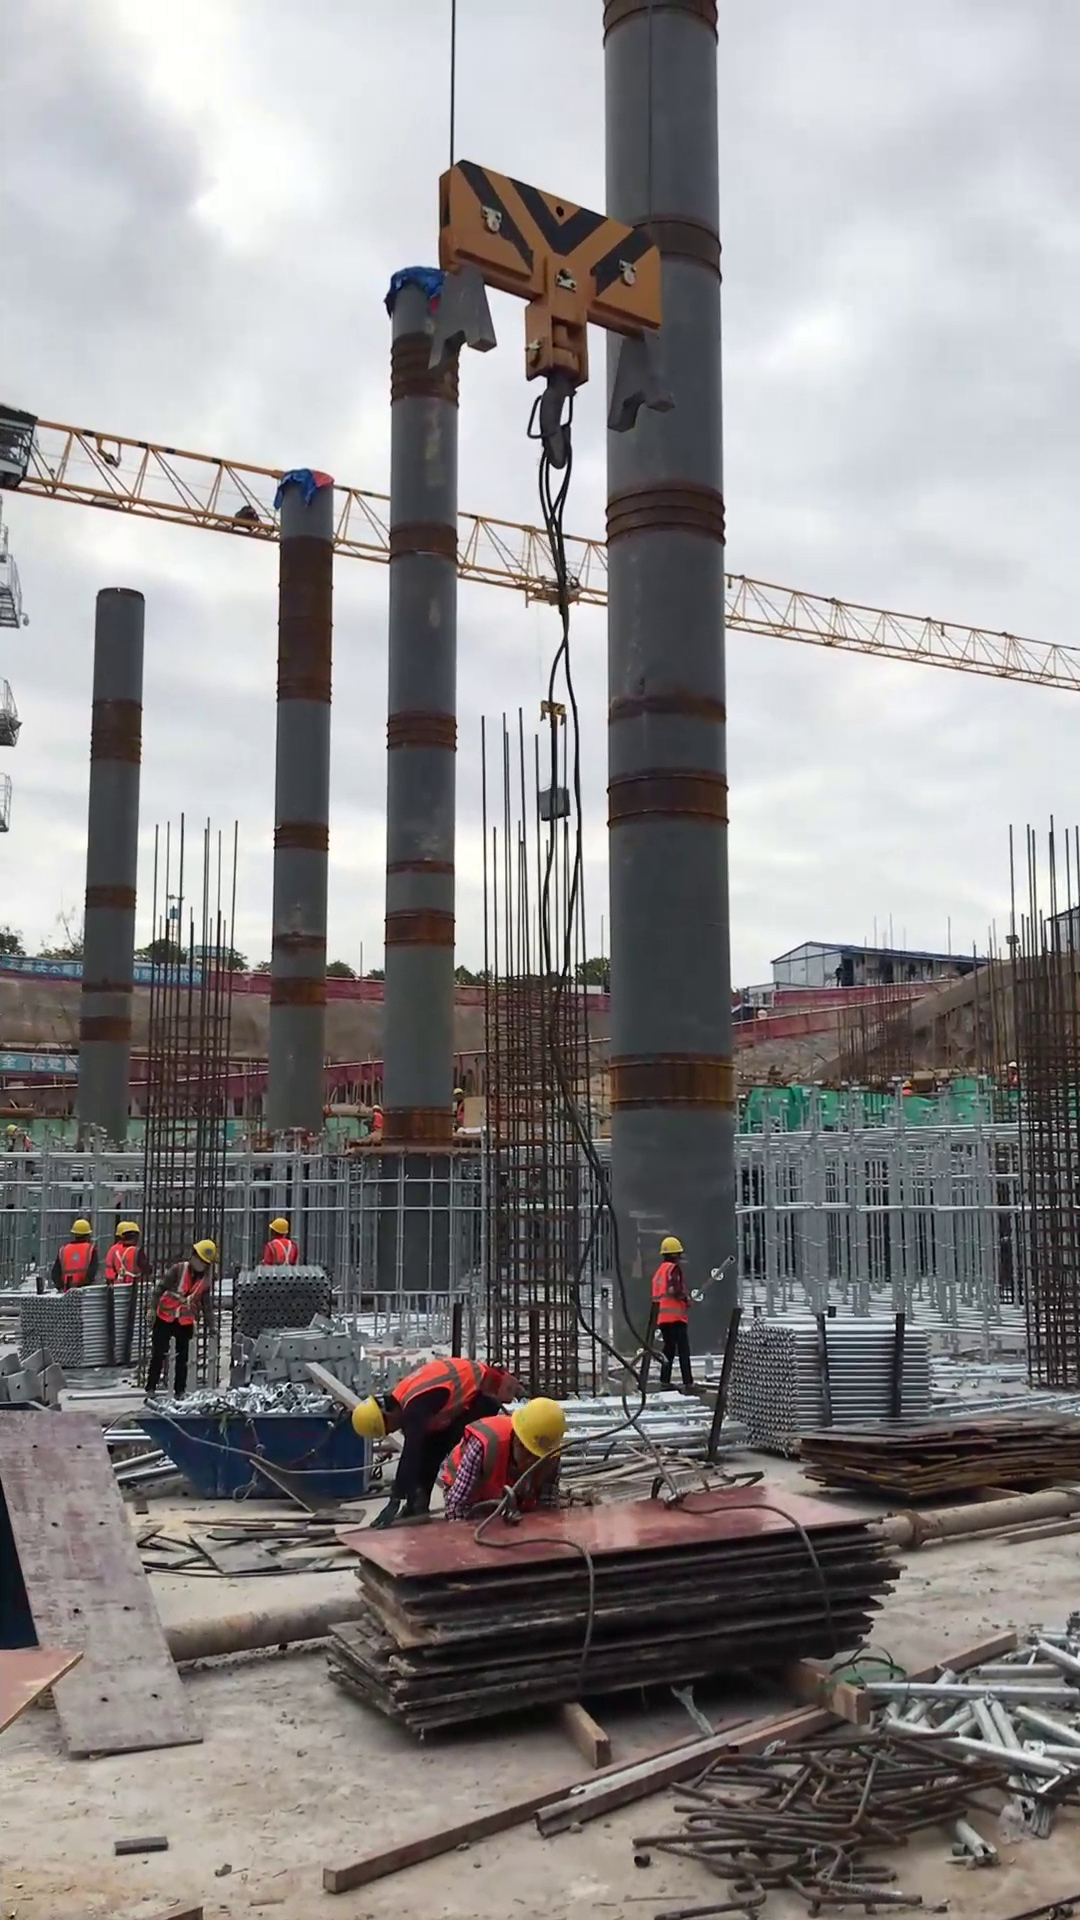board: (316, 1467, 923, 1758), (790, 1396, 1080, 1523)
helmet: (510, 1394, 571, 1467), (350, 1388, 394, 1453), (193, 1235, 222, 1269), (111, 1218, 143, 1243), (658, 1235, 687, 1258), (267, 1213, 293, 1235), (67, 1218, 93, 1238)
hook: (428, 151, 685, 479), (537, 698, 576, 739)
hopper: (149, 1406, 345, 1515)
person: (347, 1349, 528, 1531), (436, 1390, 578, 1540), (135, 1231, 230, 1411), (642, 1232, 711, 1394), (39, 1215, 108, 1296), (105, 1214, 153, 1289), (253, 1213, 303, 1276)
scaffold: (724, 1310, 940, 1451), (7, 1276, 153, 1376), (233, 1258, 340, 1353)
slogan: (1, 955, 89, 978), (1, 1051, 82, 1075)
vest: (440, 1410, 517, 1522), (392, 1354, 514, 1422), (153, 1260, 208, 1336), (651, 1263, 692, 1331), (54, 1238, 101, 1293), (108, 1239, 144, 1286), (264, 1231, 300, 1274)
